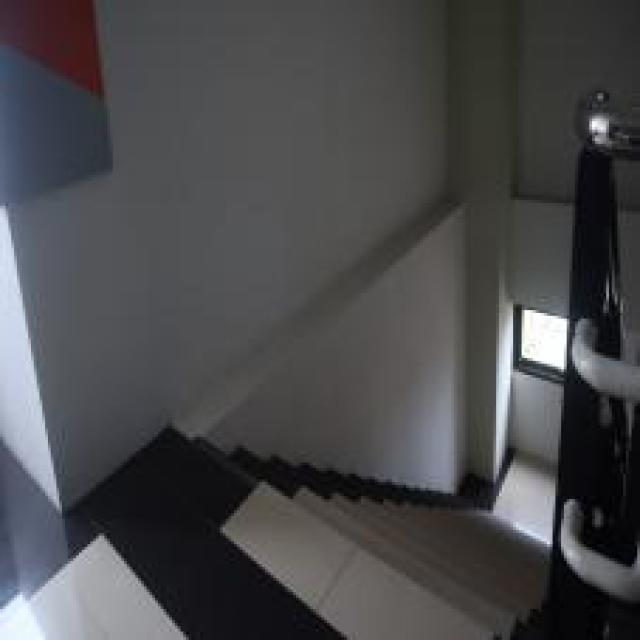downstair: (213, 447, 557, 638)
